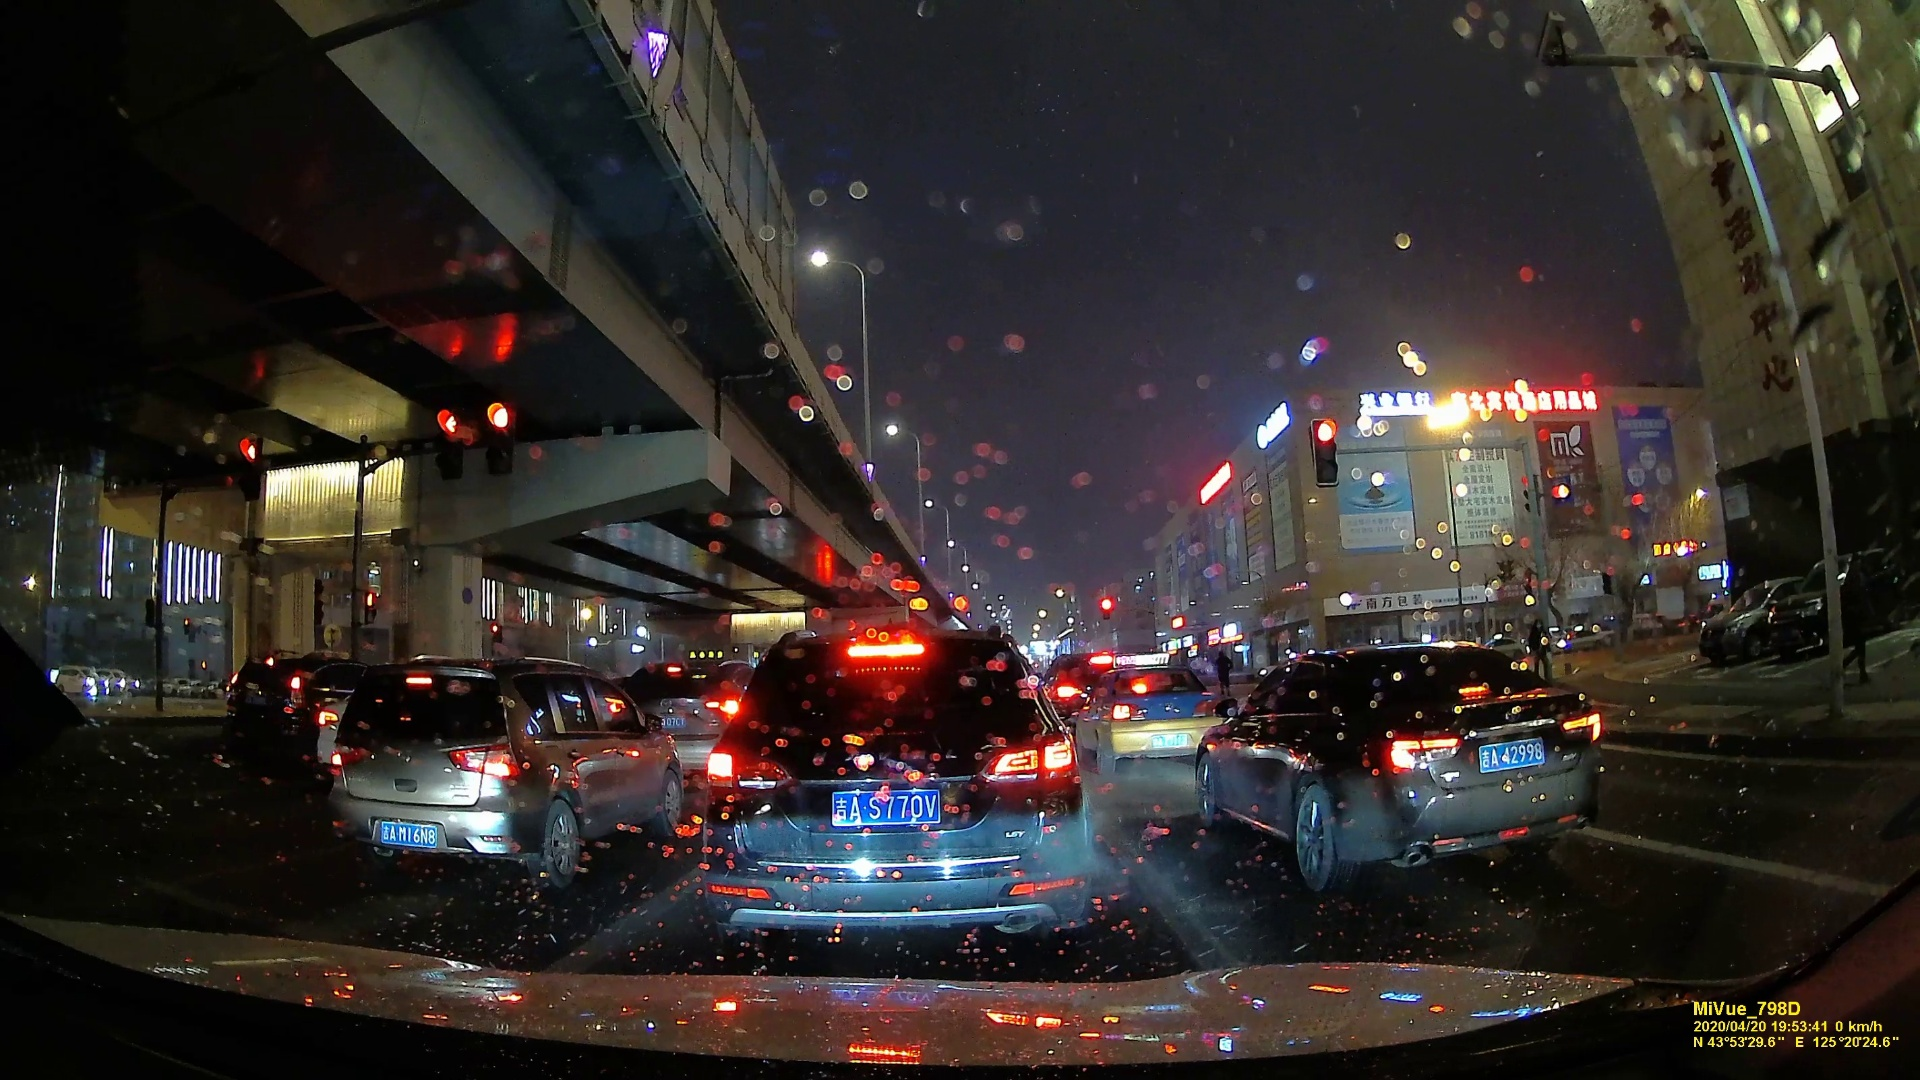person: (1840, 550, 1876, 677), (1523, 613, 1555, 681), (1214, 649, 1235, 693)
traffic_sign: (1309, 420, 1342, 482), (483, 400, 513, 467), (433, 408, 462, 474), (233, 432, 262, 490), (1100, 597, 1112, 620)
vehicle: (692, 632, 1086, 932), (1195, 632, 1614, 900), (317, 650, 670, 886), (1078, 664, 1222, 770), (218, 646, 317, 736)
